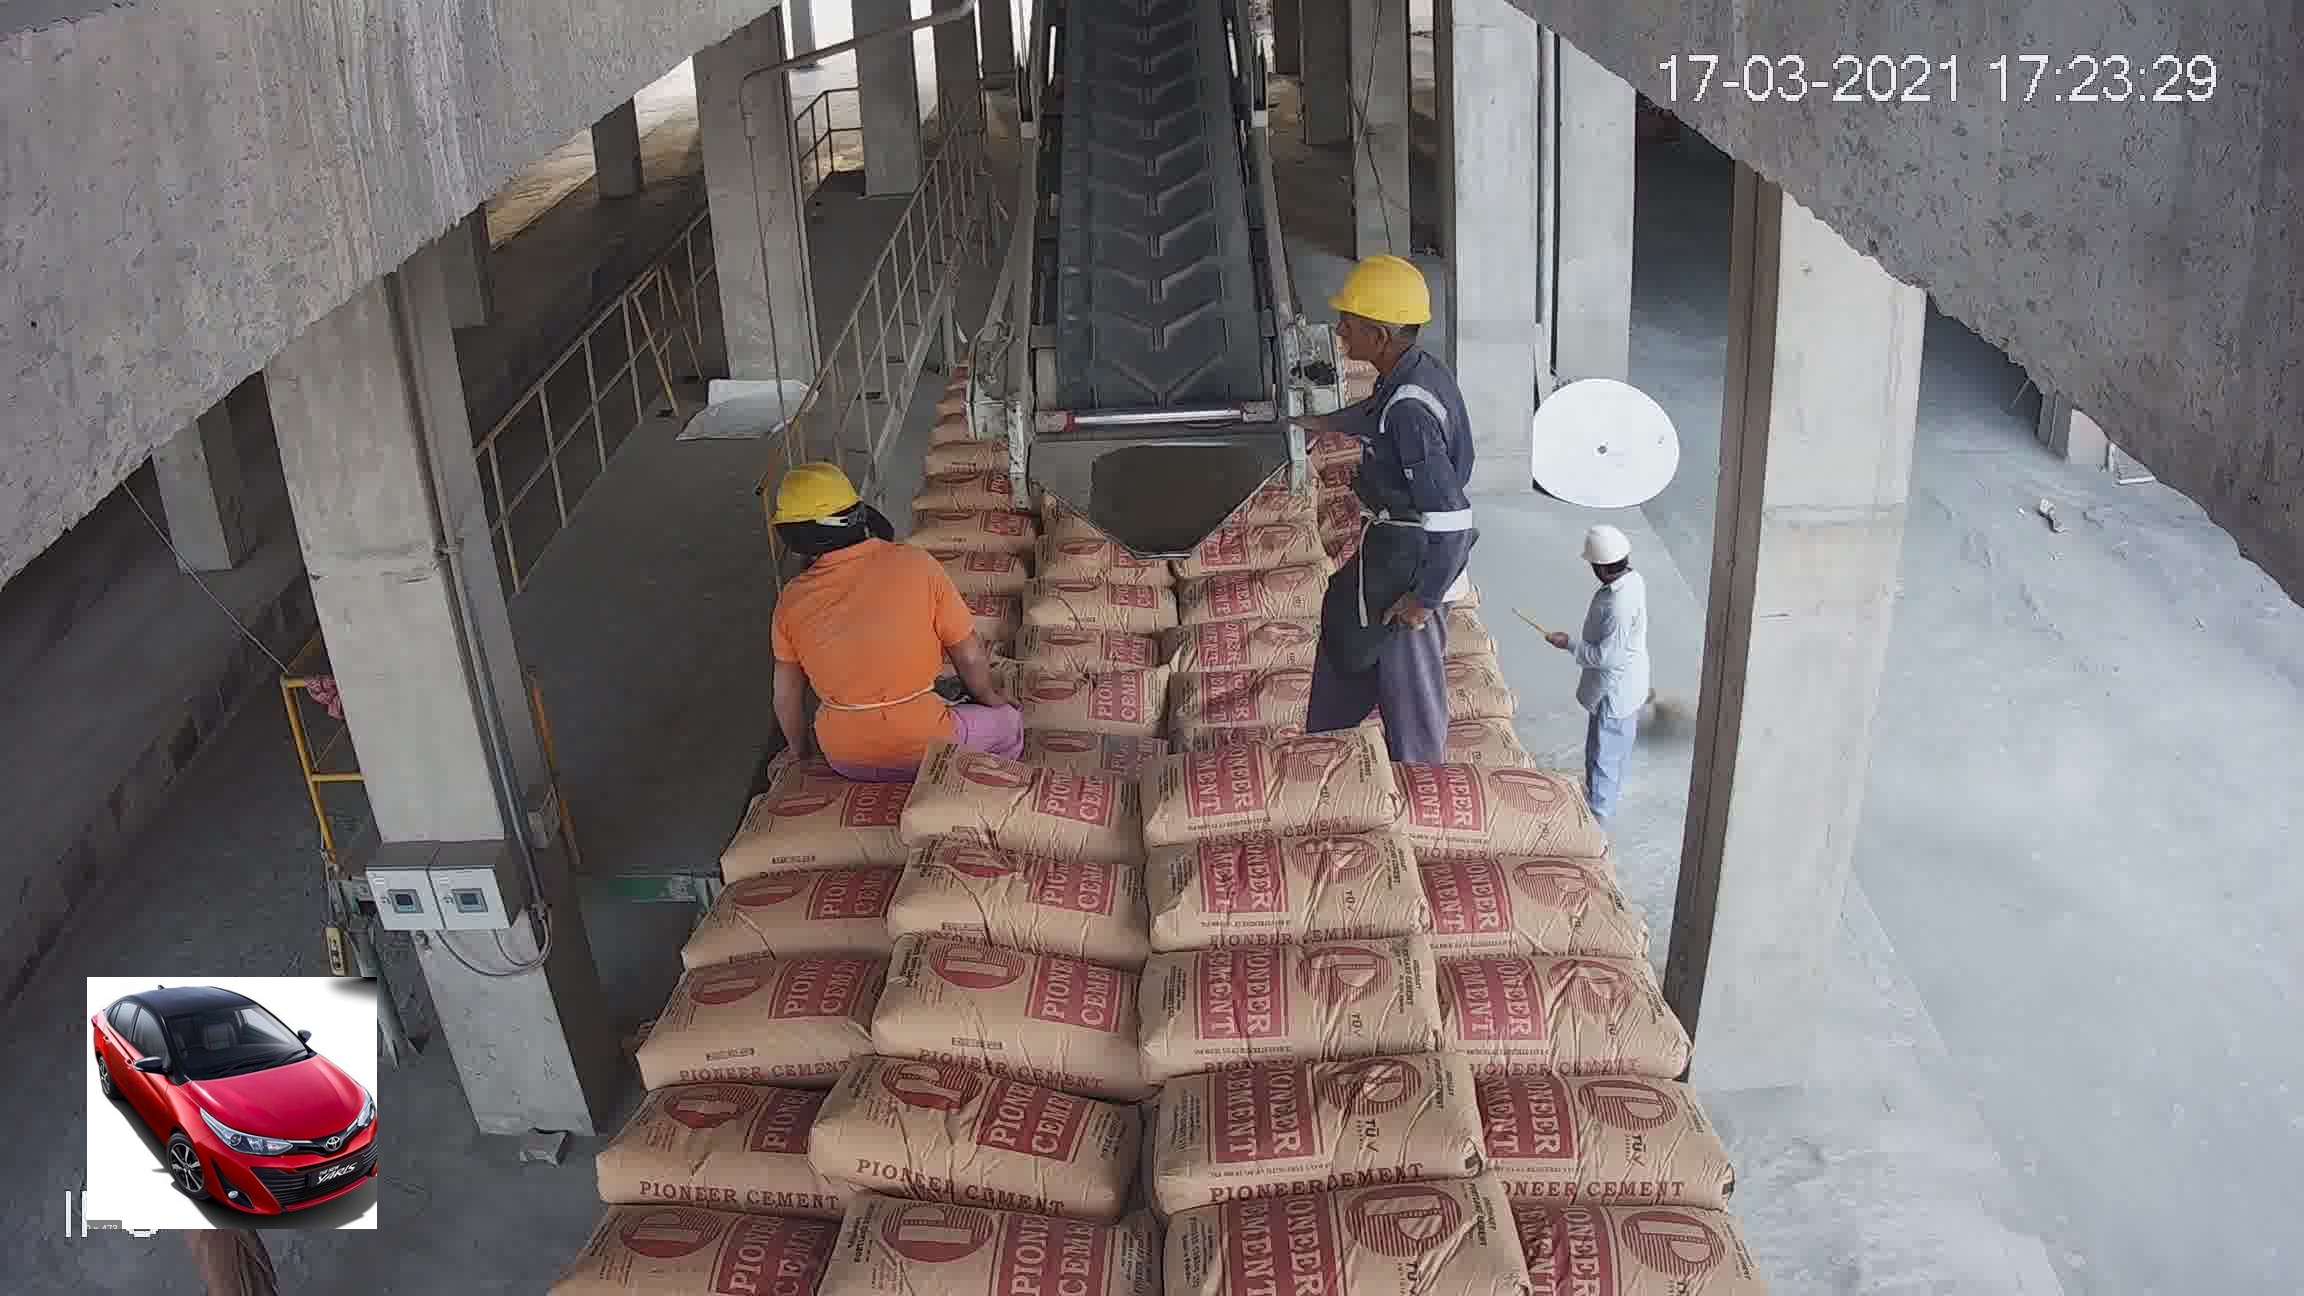bag: (1092, 168, 1211, 283)
bag_h: (1143, 1048, 1492, 1203), (1176, 1177, 1500, 1296), (593, 945, 862, 1084), (1168, 930, 1429, 1071), (1128, 813, 1438, 926), (820, 1076, 1108, 1195), (576, 1087, 832, 1212), (810, 1207, 1161, 1296), (1389, 848, 1657, 961), (885, 940, 1144, 1051), (1437, 957, 1676, 1073), (864, 843, 1130, 942), (1143, 728, 1394, 831), (1494, 1078, 1688, 1211), (1511, 1196, 1756, 1293), (704, 766, 900, 885), (1152, 658, 1385, 758), (582, 1199, 804, 1296), (1141, 590, 1385, 677), (709, 859, 911, 954), (1396, 753, 1603, 845), (748, 696, 930, 794), (918, 764, 1147, 840), (1397, 674, 1568, 767), (999, 600, 1169, 680), (763, 641, 953, 706), (938, 680, 1139, 737), (1408, 609, 1540, 688), (1185, 532, 1355, 592), (807, 573, 953, 635), (1389, 544, 1513, 616), (964, 560, 1157, 604), (1337, 460, 1449, 524), (1313, 394, 1434, 448), (1331, 424, 1435, 479), (1332, 351, 1419, 410), (1358, 506, 1470, 548), (1086, 492, 1188, 536), (908, 505, 999, 546), (1090, 456, 1173, 489)
belt: (1055, 19, 1245, 392)
